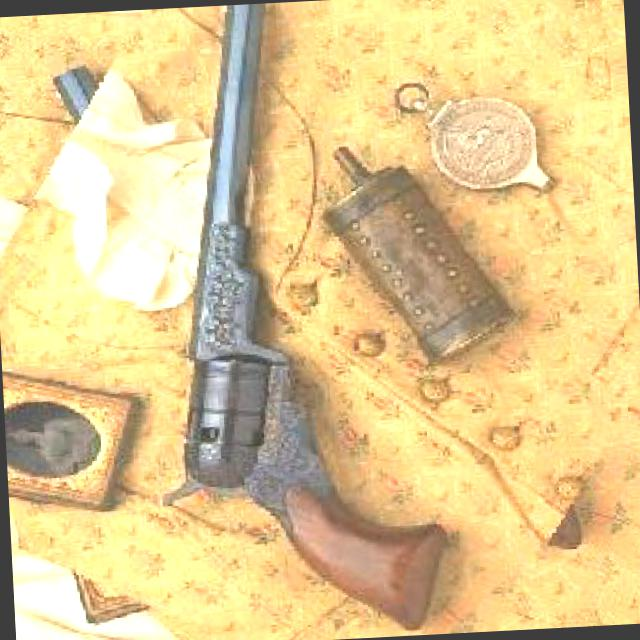handgun: (132, 0, 450, 639)
